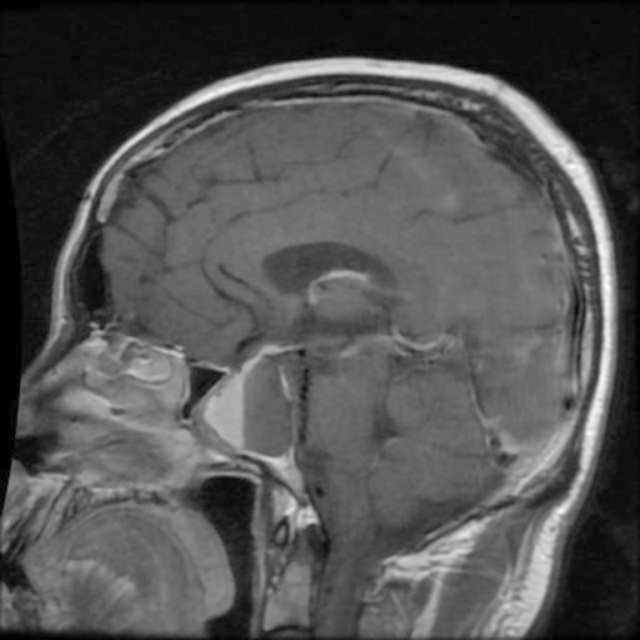no tumor: (218, 327, 312, 468)
